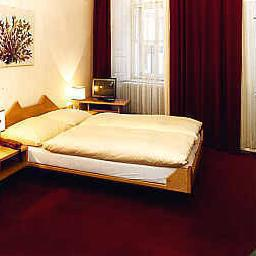Cama: (13, 105, 206, 196)
Ventana: (107, 6, 185, 84)
